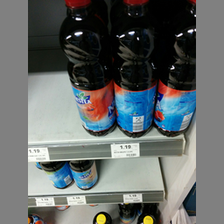juice: (58, 1, 117, 136), (108, 1, 159, 138), (157, 1, 196, 138)
